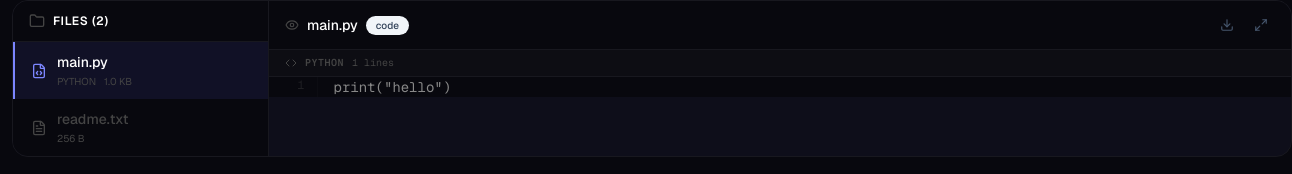
Scenario: FileBrowser › switches file content when clicking a different file
Expected: the text "print(\"hello\")" is shown, x1=317 y1=77 x2=1291 y2=97
Click the text "readme.txt".
click(93, 119)  # box x1=57 y1=110 x2=128 y2=128
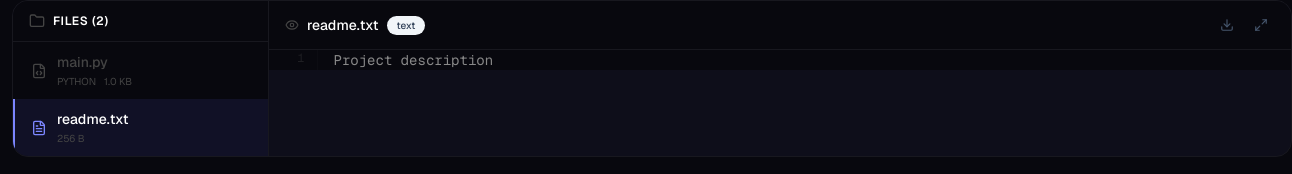
Now the text "Project description" is shown, box x1=317 y1=50 x2=1291 y2=70
